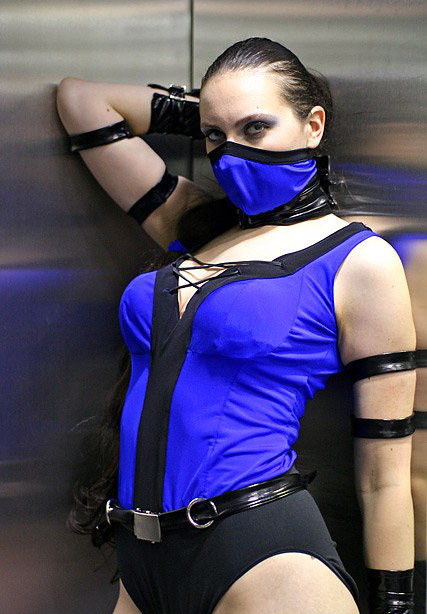face_mask: (202, 66, 300, 214)
